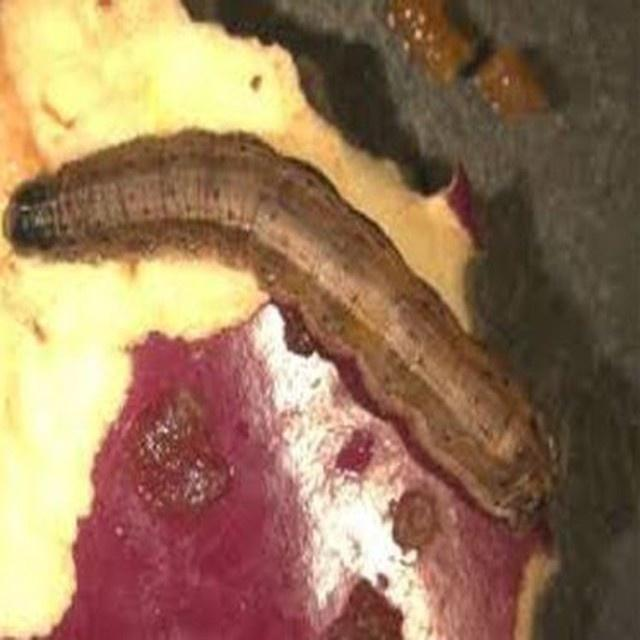gusano_cogollero: (4, 124, 564, 541)
